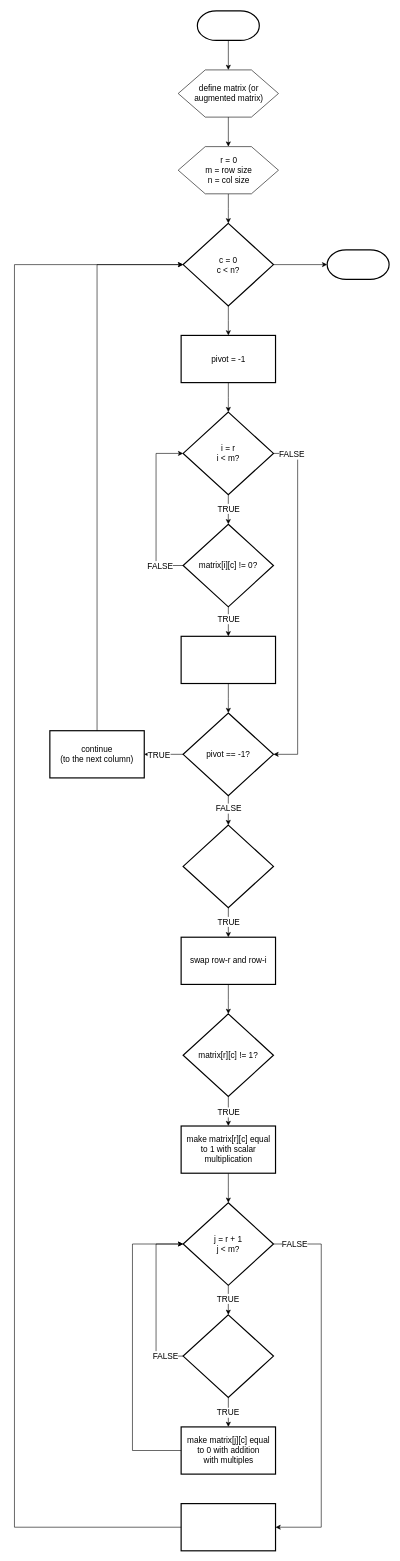
This 400x1561 diagram has some shape labels left out. The centre of each missing label's shape, as x and y in pixels:
"END" goes at (x=357, y=264).
"increment r" goes at (x=228, y=1527).
"matrix[j][c] != 0?" goes at (x=228, y=1356).
"pivot != r?" goes at (x=228, y=866).
"pivot = i break" goes at (x=228, y=659).
"START" goes at (x=228, y=25).
